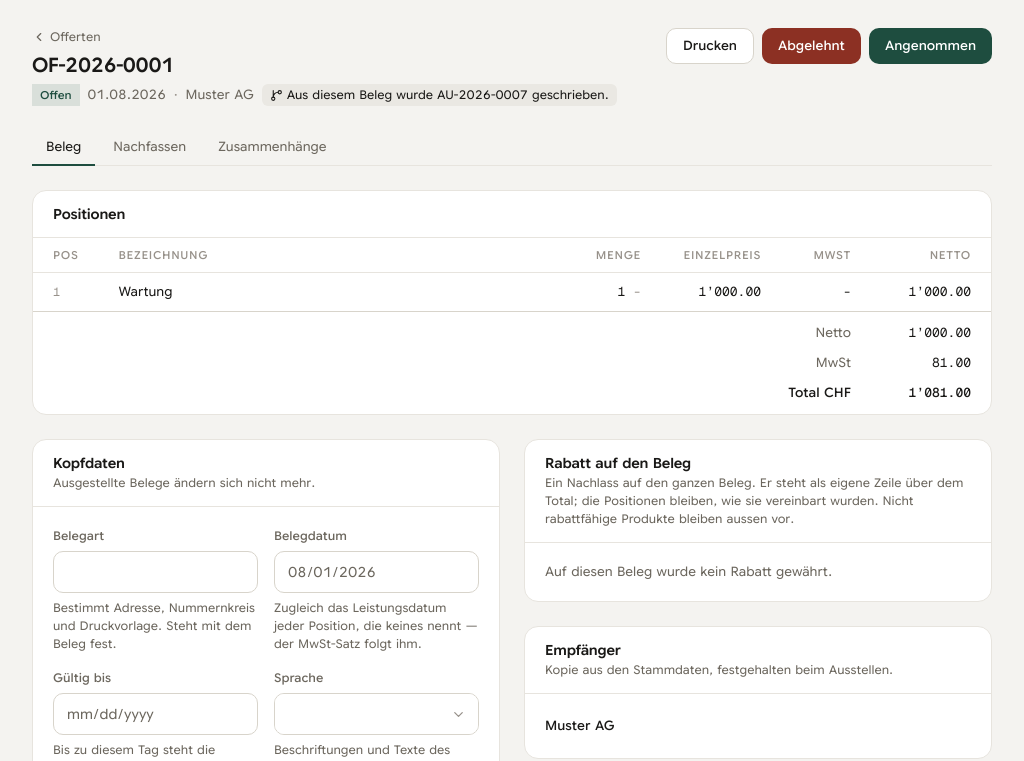
Test: SalesDocumentPage › salesDocumentPageShowsTheChainRegisterTest
The width and height of the screenshot is (1024, 761).
Step 1. Click the tab "Zusammenhänge" → (272, 148), box [204, 130, 341, 166]
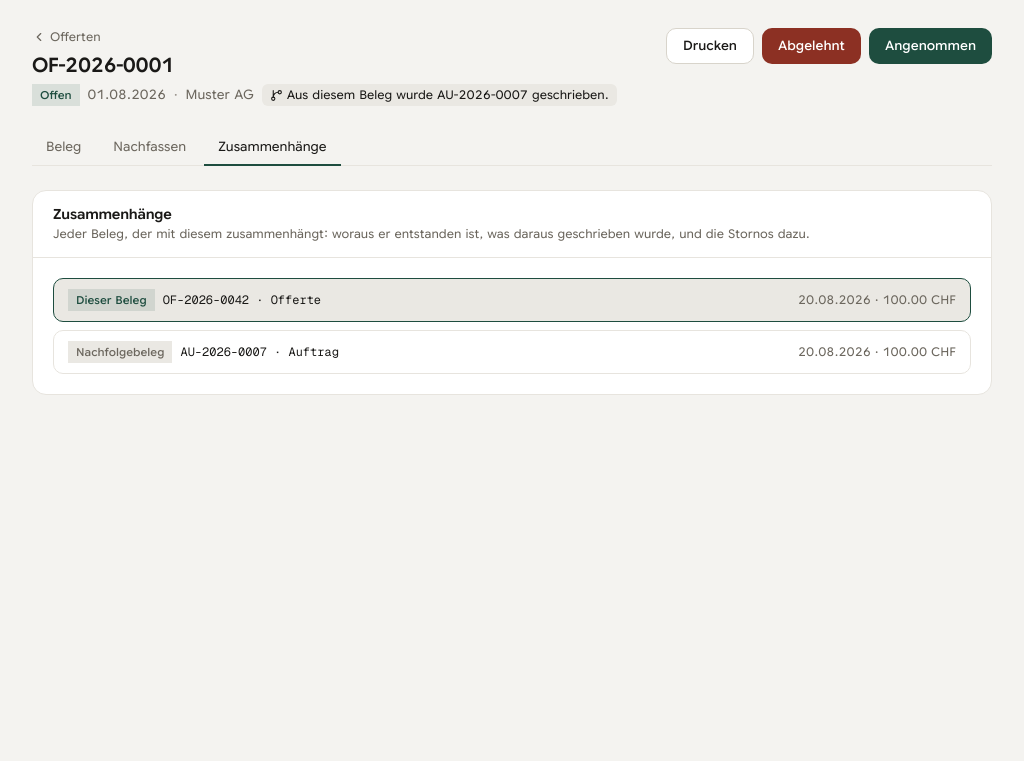
Expected: the text "AU-2026-0007" is shown, [262, 84, 617, 106]
Expected: the text "Nachfolgebeleg" is shown, [68, 341, 172, 363]
